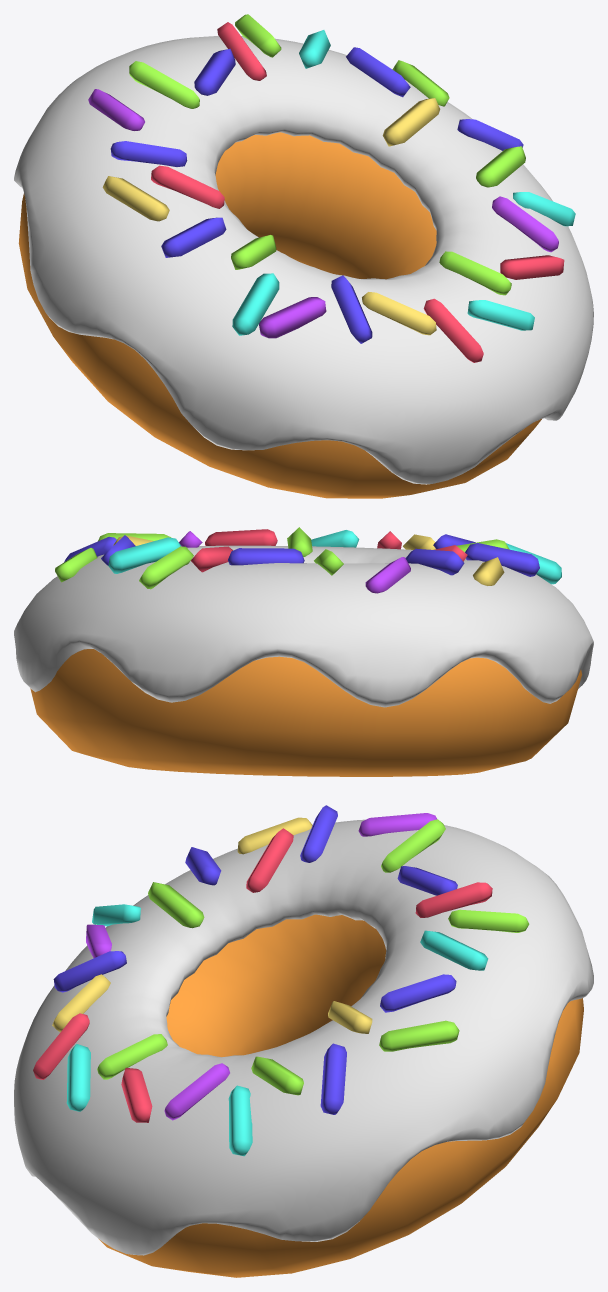
Rendered from Donut.FBX.
3 renders of one model, top to bottom at view 1: azimuth 30°, elevation 25°; view 2: azimuth 150°, elevation 25°; view 3: azimuth 270°, elevation 25°, orthographic. The views are drawn at different scales.
Visible parts, largest first — view 1: Donut; view 2: Donut; view 3: Donut.
Part boxes in pixels (left/top/right/bottom): Donut: left=14, top=14, right=593, bottom=498; Donut: left=14, top=527, right=593, bottom=776; Donut: left=14, top=805, right=593, bottom=1277.
Bounding box in the file's own units: 10.04 × 9.74 × 6.42.
1 material, 1 textured.
